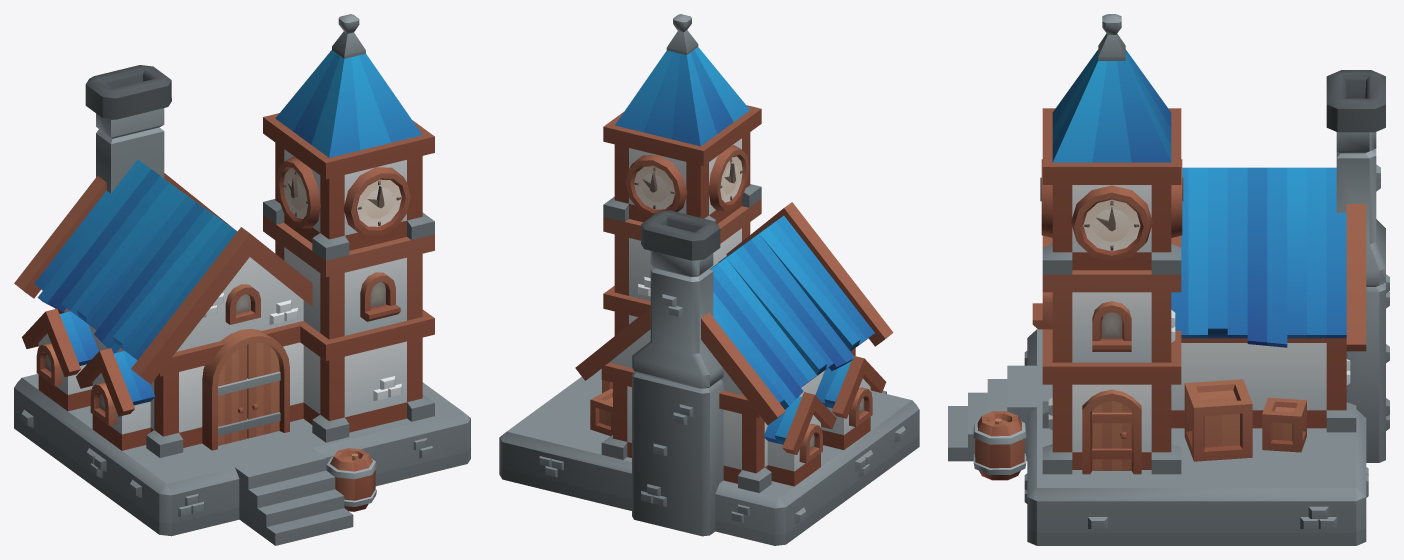
The model's file is townhall_blue.glb.
3 views of the same model, side by side, from view 1: azimuth 30°, elevation 25°; view 2: azimuth 150°, elevation 25°; view 3: azimuth 270°, elevation 25° (orthographic). The views are drawn at different scales.
Visible parts, largest first — view 1: townhall_blue; view 2: townhall_blue; view 3: townhall_blue.
Boxes of the visible parts, x1,y1,x2,y2 form: townhall_blue: [14, 14, 470, 545]; townhall_blue: [499, 14, 919, 545]; townhall_blue: [948, 14, 1389, 545].
Size of the model in its own units: 0.7175 by 0.9431 by 0.7818.
1 material, 1 textured.
